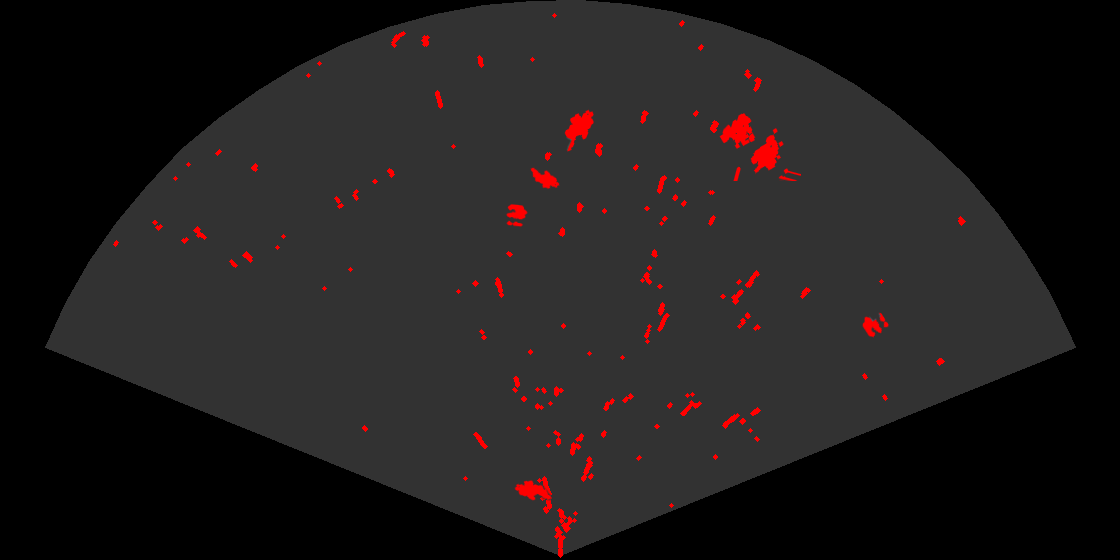AUV: (563, 108, 595, 153), (513, 478, 553, 502), (529, 166, 561, 191)
ball: (861, 311, 890, 339), (505, 203, 529, 229)
cage: (718, 112, 801, 181)
